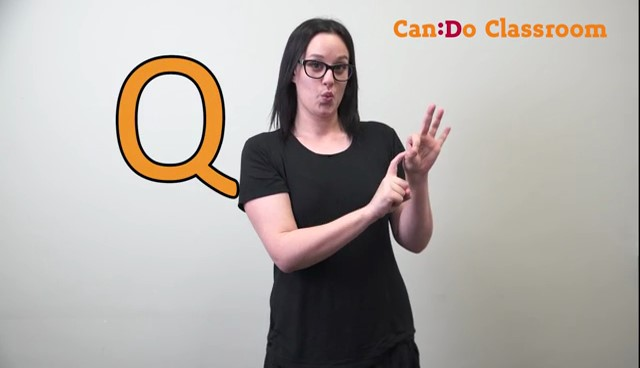Q: (372, 99, 465, 222)
